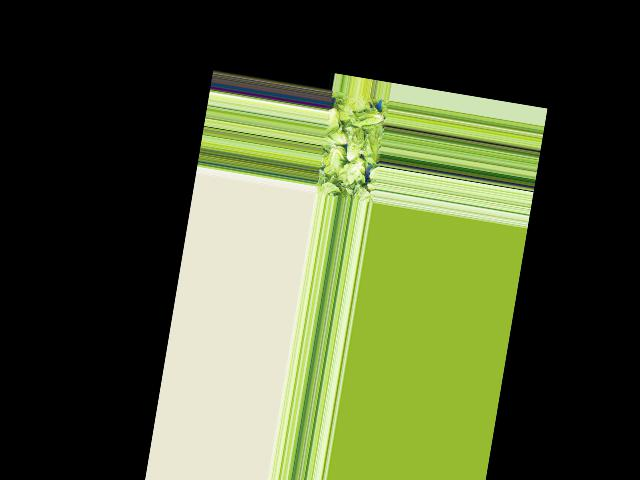lettuce: (325, 102, 343, 139)
